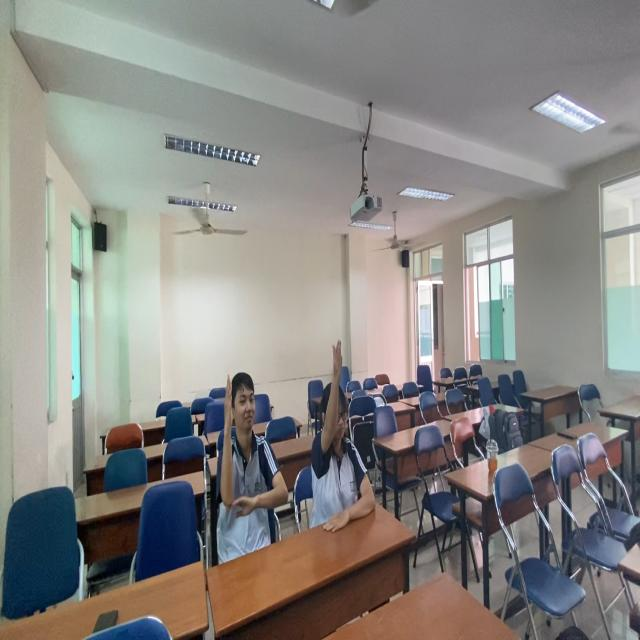raise_hand: (310, 339, 380, 530), (217, 360, 284, 549)
